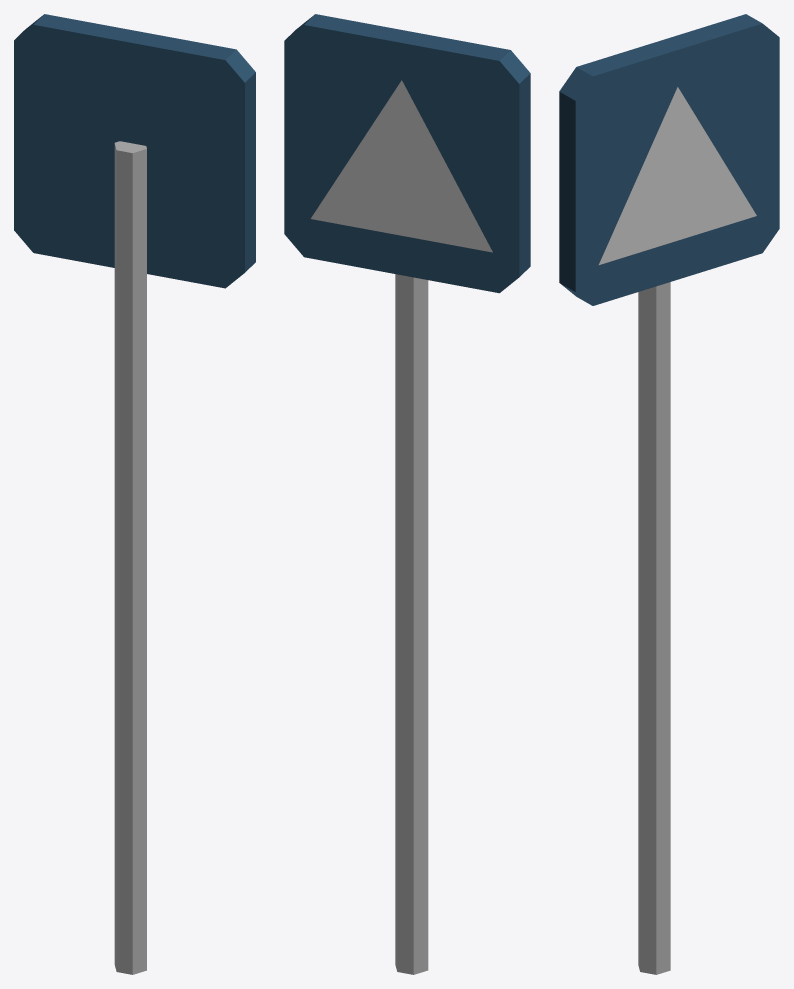
File: Crosswalk Sign.fbx
3 renders of one model, left to right at view 1: azimuth 30°, elevation 25°; view 2: azimuth 210°, elevation 25°; view 3: azimuth 270°, elevation 25°, orthographic.
Visible parts, largest first — view 1: Crosswalk Sign; view 2: Crosswalk Sign; view 3: Crosswalk Sign.
Part boxes in pixels (x1=…): Crosswalk Sign: x1=14, y1=14, x2=255, y2=974; Crosswalk Sign: x1=284, y1=14, x2=530, y2=974; Crosswalk Sign: x1=559, y1=14, x2=779, y2=974.
Size of the model in its own units: 57.9 by 73.82 by 343.
